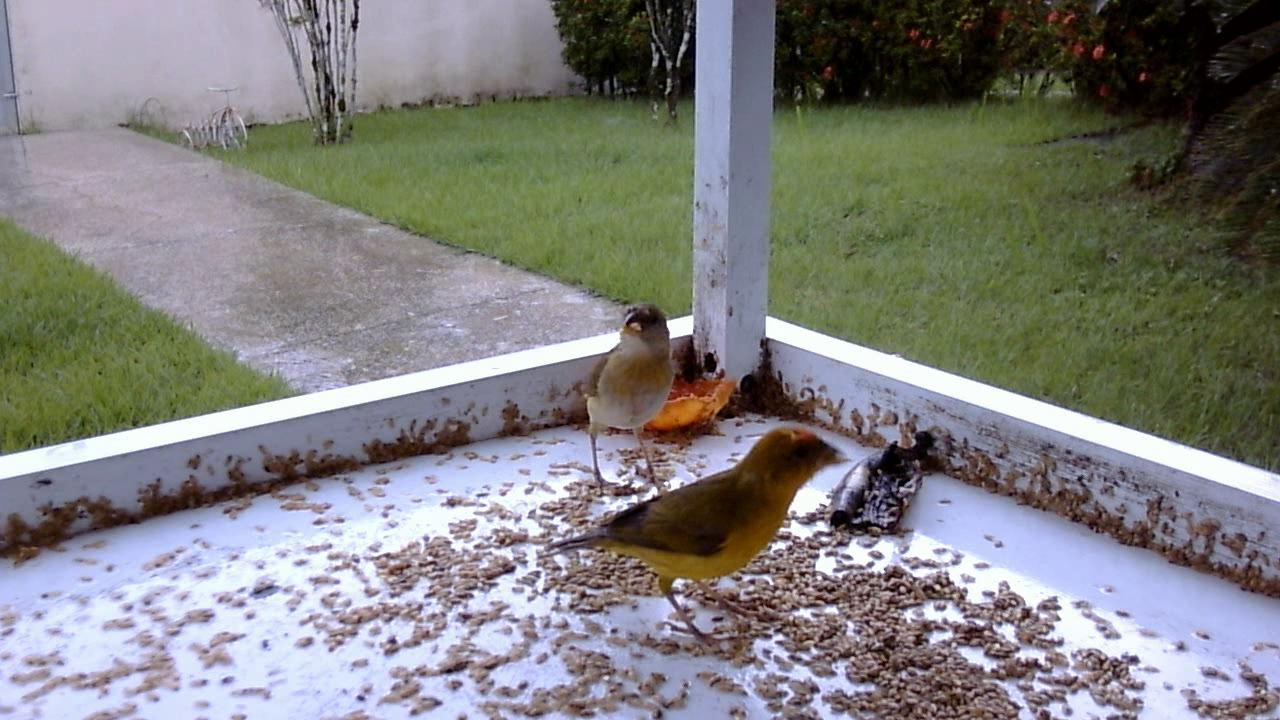canario_do_amazonas: (539, 422, 865, 644), (570, 300, 684, 502)
